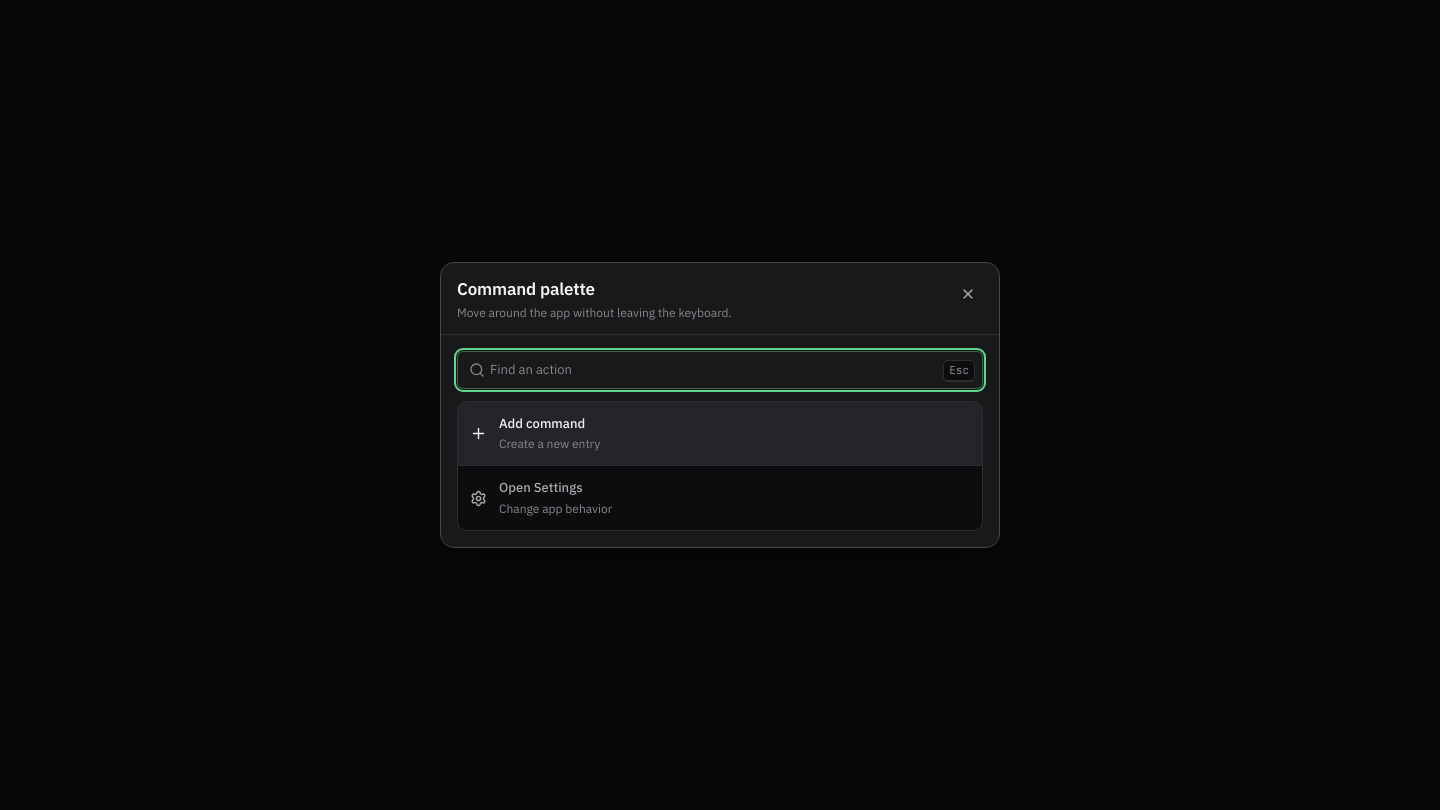
Test: CommandPalette › supports arrow-key selection and an honest empty result
Step 1. Press Arrowdown Enter
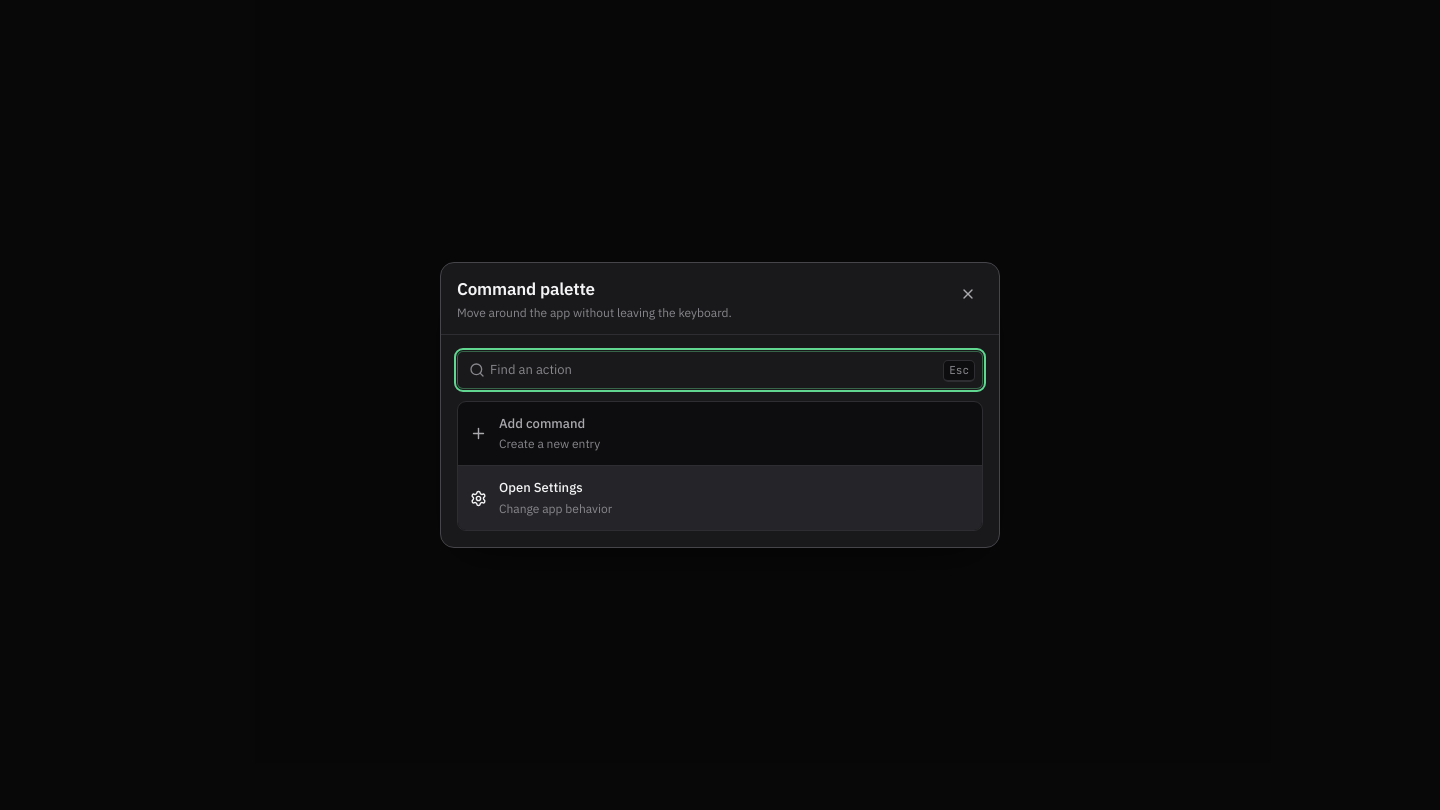
Step 2. Type "definitely missing" into the search field named "Find an action" → (720, 370), box [457,351,983,389]
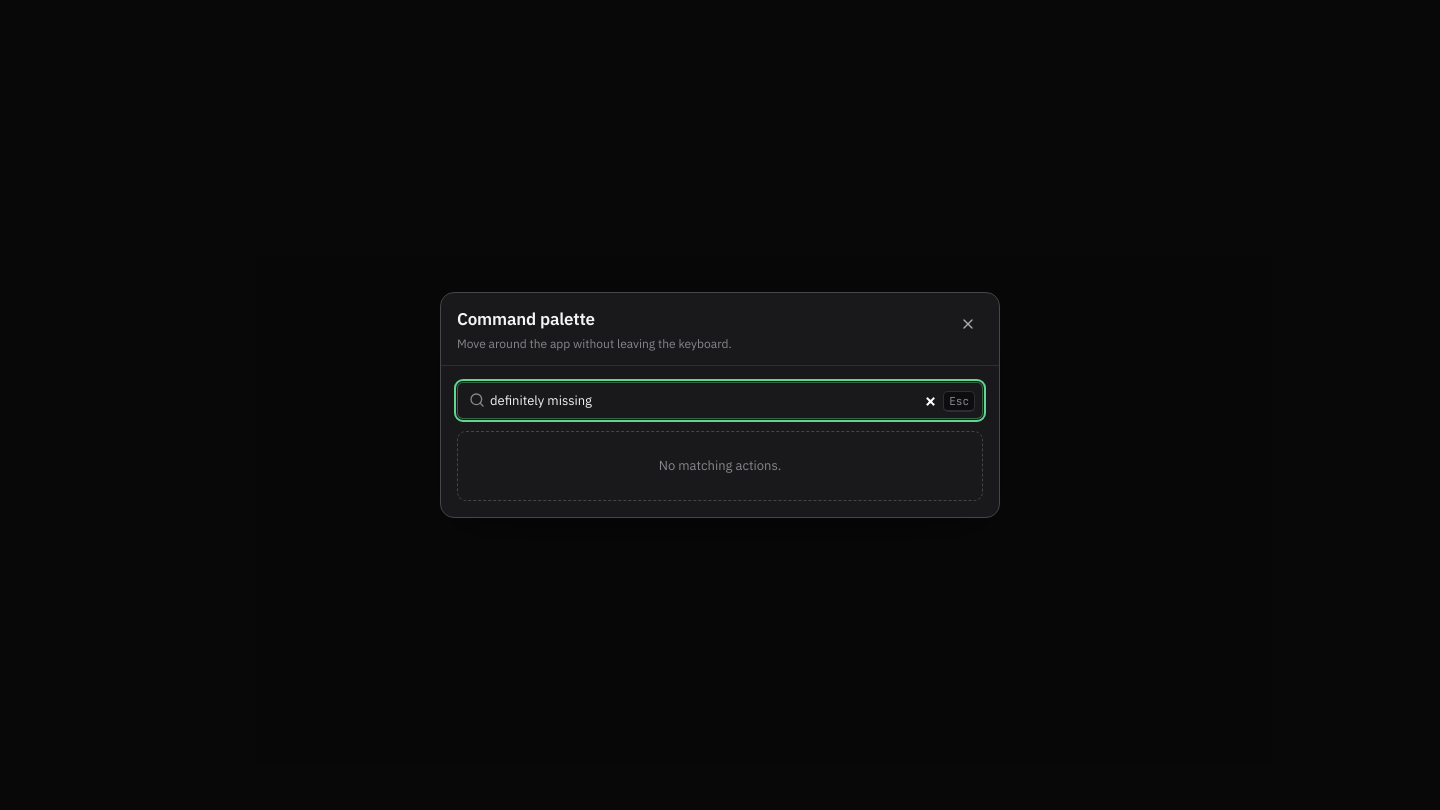
Check: the message shows "No matching actions", box [659,457,781,474]
